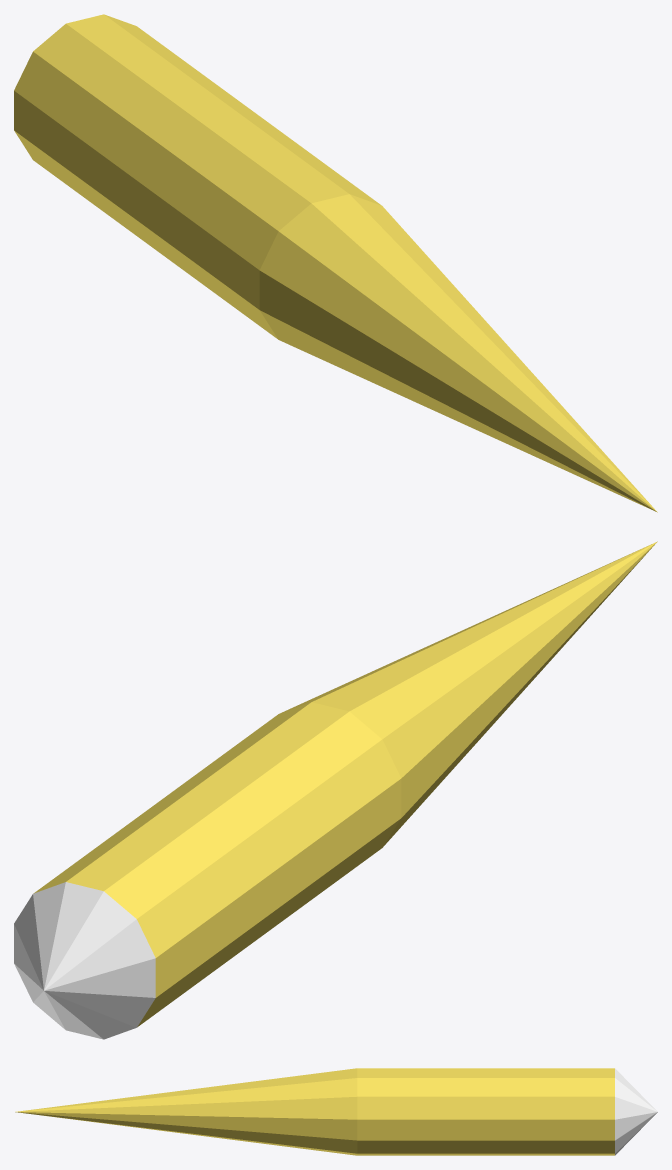
File: tracer.obj
3 renders of one model, top to bottom at view 1: azimuth 30°, elevation 25°; view 2: azimuth 150°, elevation 25°; view 3: azimuth 270°, elevation 25°, orthographic. The views are drawn at different scales.
Visible parts, largest first — view 1: cylinder; view 2: cylinder; view 3: cylinder.
Boxes of the visible parts, x1=… form: cylinder: x1=14, y1=14, x2=657, y2=512; cylinder: x1=14, y1=541, x2=657, y2=1039; cylinder: x1=15, y1=1068, x2=657, y2=1155.
Size of the model in its own units: 0.125 by 0.125 by 0.9375.
1 material, 1 textured.
